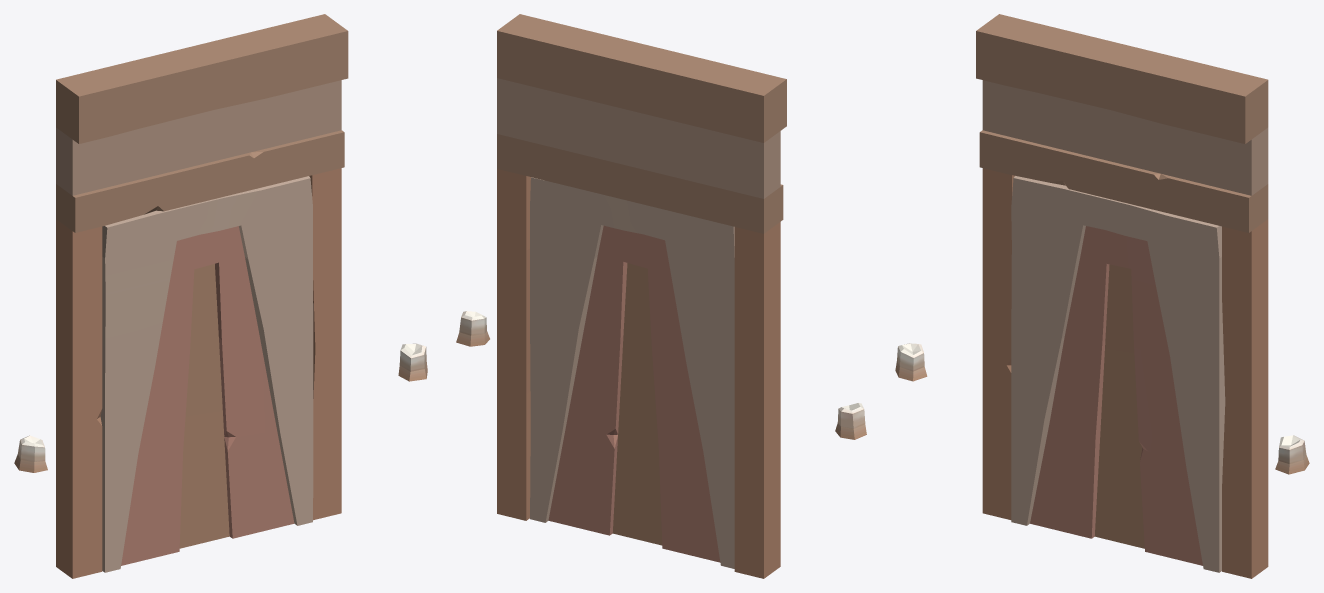
The model's file is buriedTempleDoor.fbx.
3 renders of one model, left to right at view 1: azimuth 30°, elevation 25°; view 2: azimuth 150°, elevation 25°; view 3: azimuth 330°, elevation 25°, orthographic.
Parts seen in each view (by area): view 1: buriedTempleDoor, singleDoor; view 2: buriedTempleDoor, singleDoor; view 3: buriedTempleDoor, singleDoor.
Part boxes in pixels (x1,y1,x2,y2): buriedTempleDoor: (14, 14, 427, 578); singleDoor: (100, 176, 313, 572); buriedTempleDoor: (456, 14, 866, 578); singleDoor: (530, 177, 734, 568); buriedTempleDoor: (895, 14, 1309, 578); singleDoor: (1011, 176, 1225, 572).
Bounding box in the file's own units: 4.69 × 5.34 × 0.8076.
